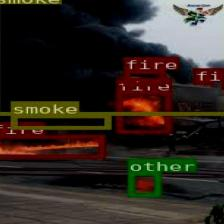fire: (0, 134, 103, 158), (116, 91, 170, 133), (123, 69, 163, 86), (193, 68, 211, 84), (220, 75, 224, 88)
smoke: (0, 0, 224, 114), (10, 114, 109, 129)
